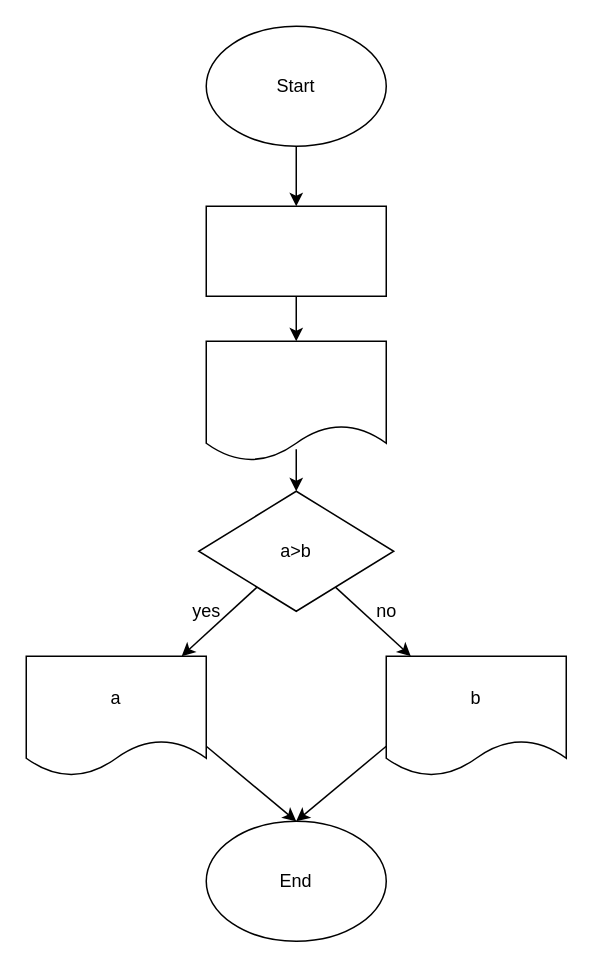
This 593x968 diagram has some shape labels left out. Each missing label, with the centre of its shape:
a= b=: the point at 295,400
a=random (-10,20) b=random (-10,20): the point at 295,250
